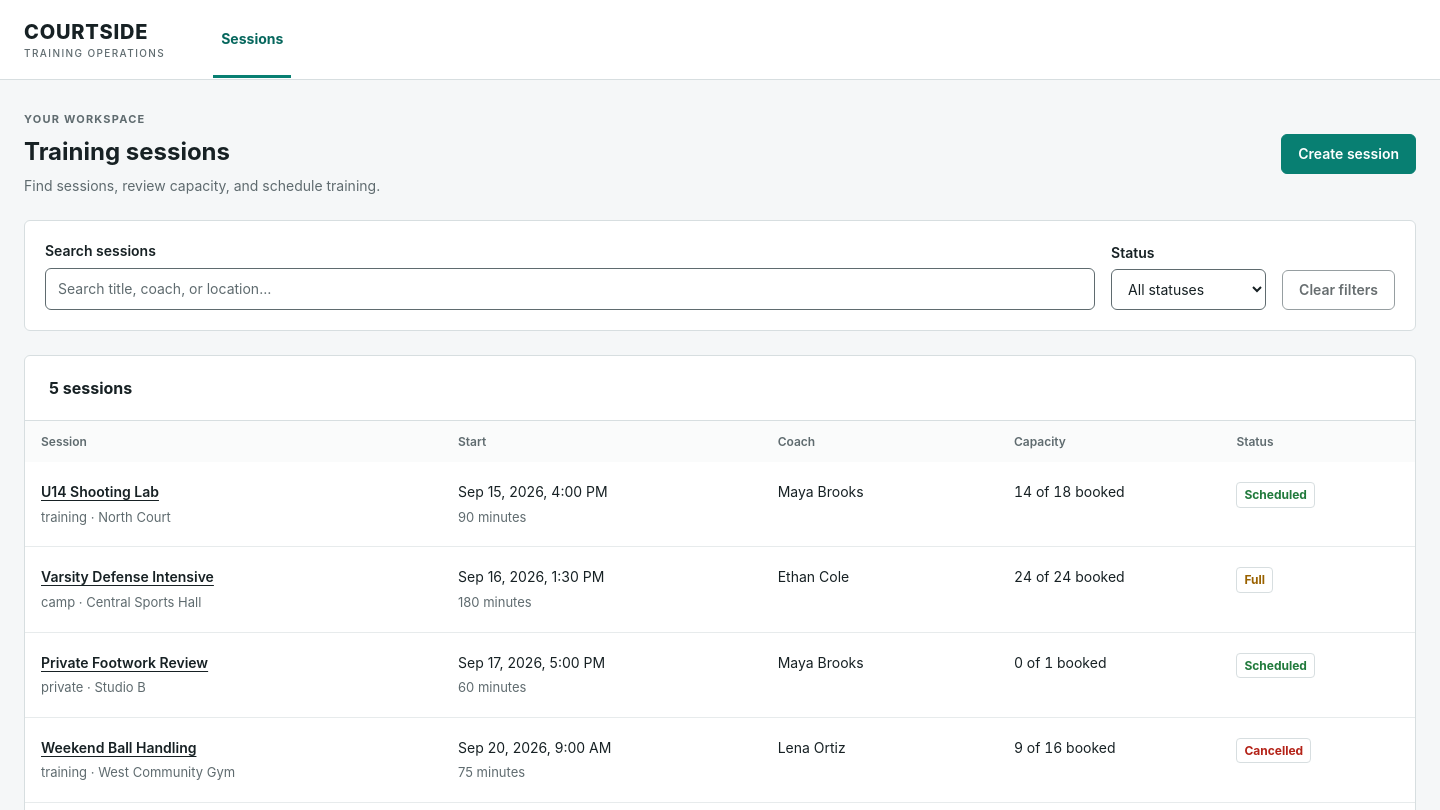
Test case: loads, searches server fields, combines status, distinguishes no matches and clears filters
Expected: the heading "5 sessions" is shown, [25, 356, 1415, 421]
In the search field labelled "Search sessions": (570, 289) [45, 268, 1095, 310], type "Shooting"
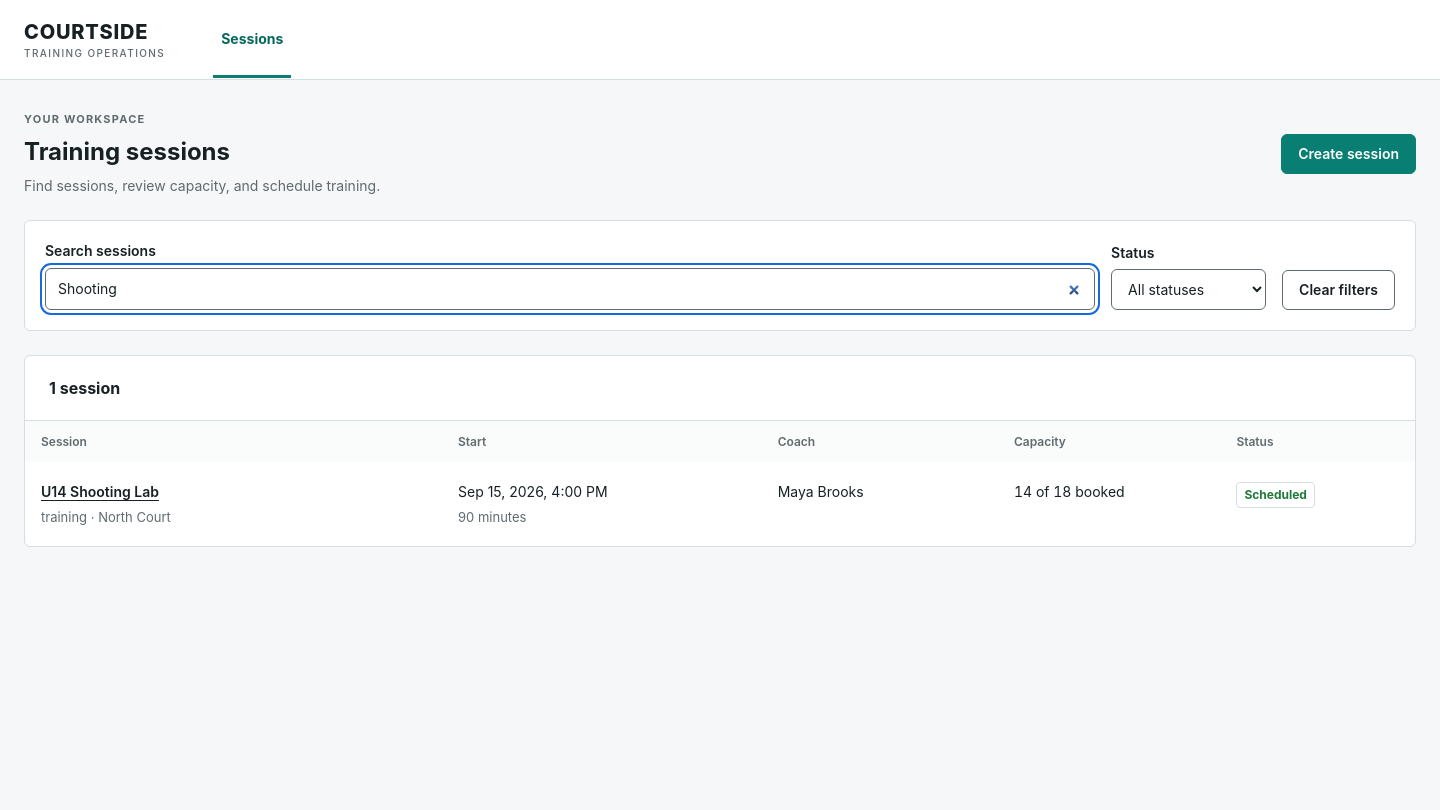
Expected: the heading "1 session" is shown, [25, 356, 1415, 421]
Replace the text in the search field labelled "Search sessions" with "Maya": (570, 289) [45, 268, 1095, 310]
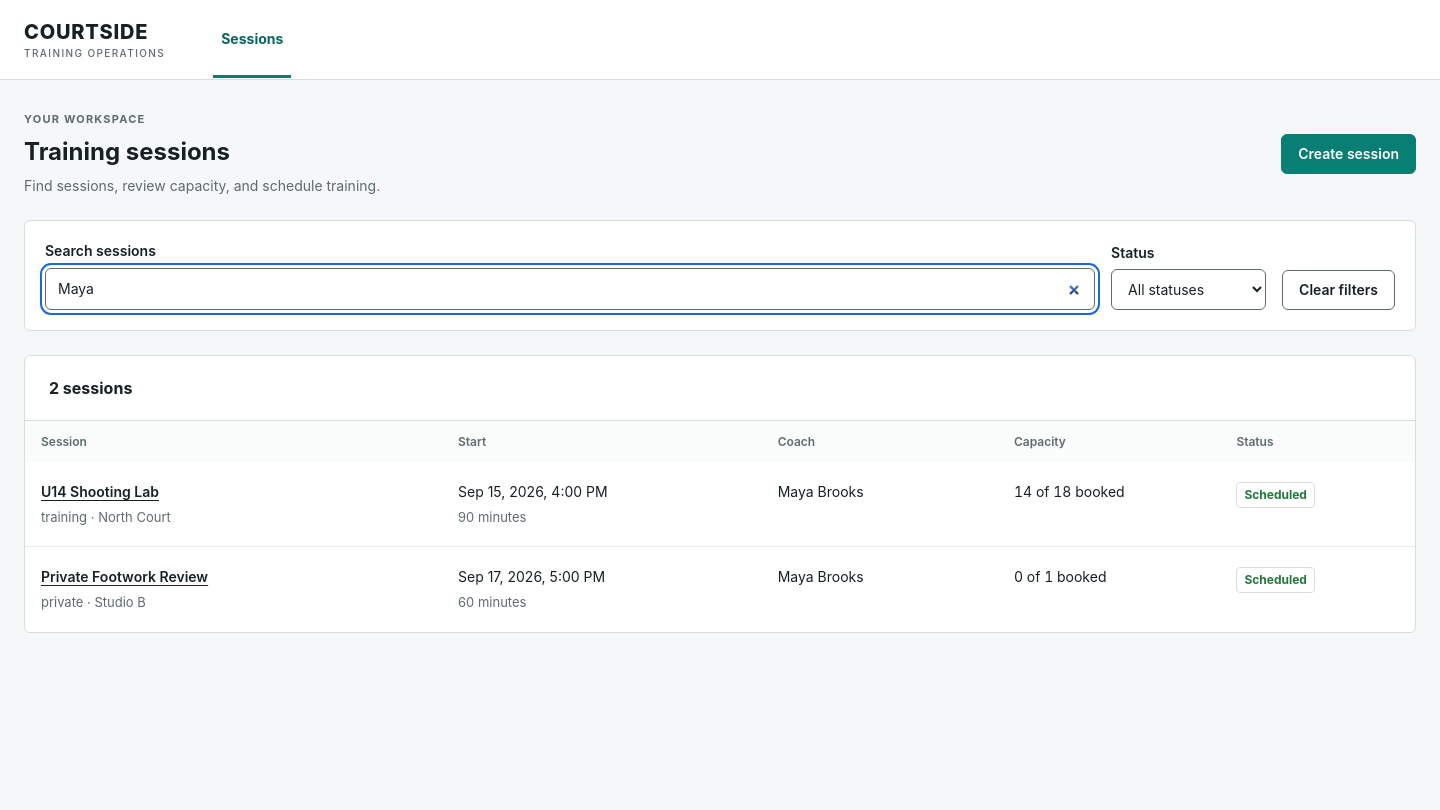
Expected: the heading "2 sessions" is shown, [25, 356, 1415, 421]
Replace the text in the search field labelled "Search sessions" with "North Court": (570, 289) [45, 268, 1095, 310]
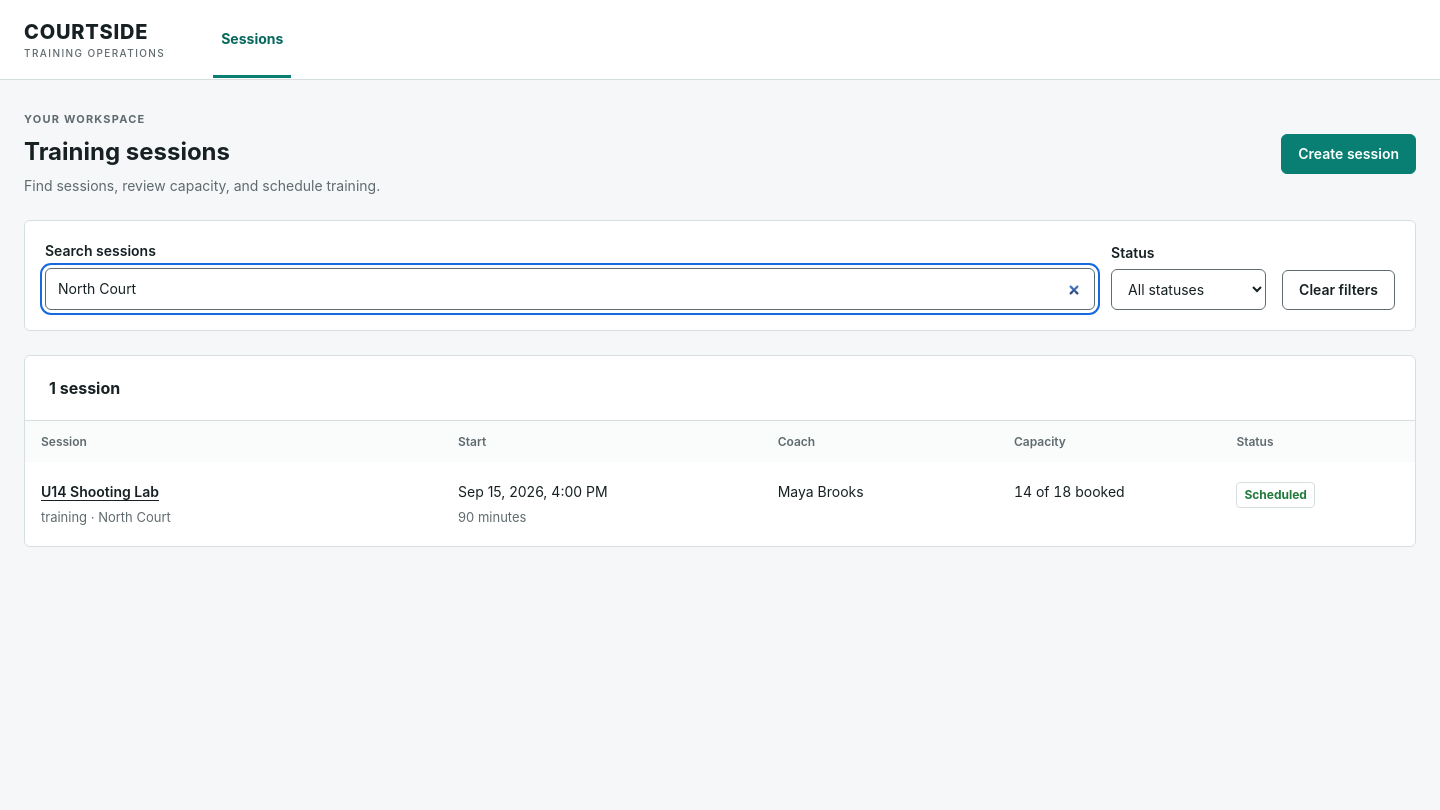
Expected: the heading "1 session" is shown, [25, 356, 1415, 421]
Select "Cancelled" in the dropdown labelled "Status": (1189, 289) [1111, 269, 1266, 310]
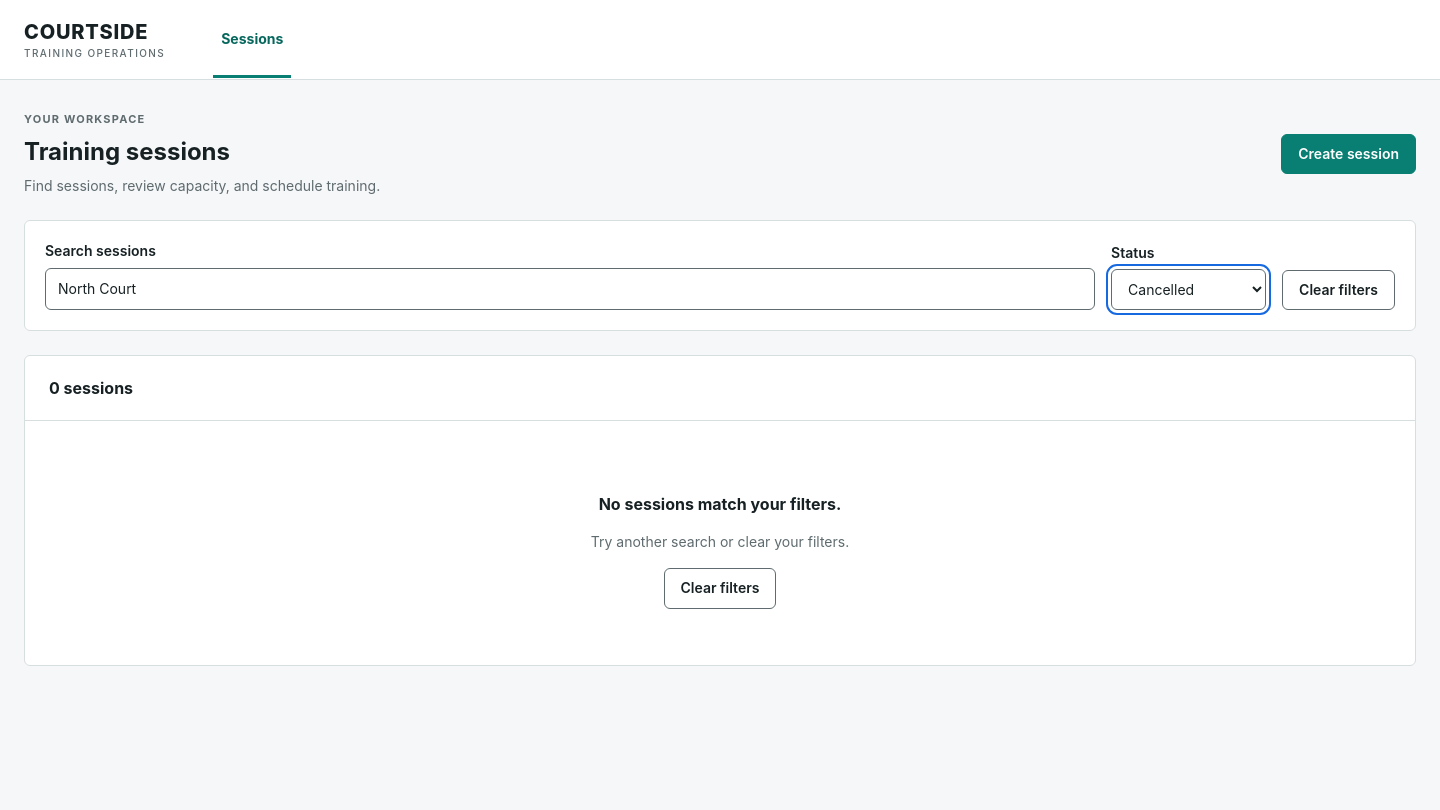
Expected: the heading "No sessions match your filters." is shown, [599, 494, 841, 514]
Click the button "Clear filters" below "Status": (1339, 290) [1282, 270, 1395, 310]
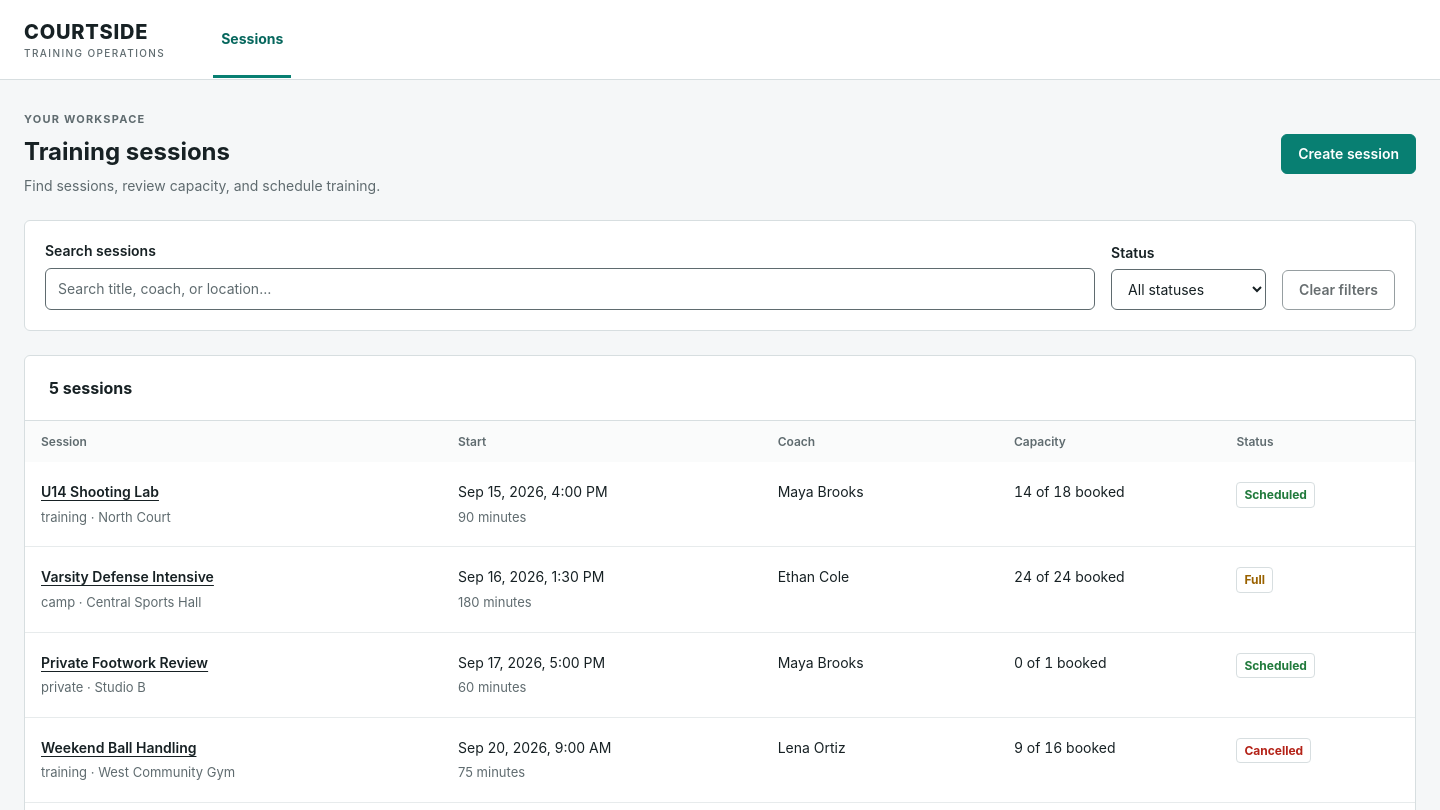
Expected: the heading "5 sessions" is shown, [25, 356, 1415, 421]
